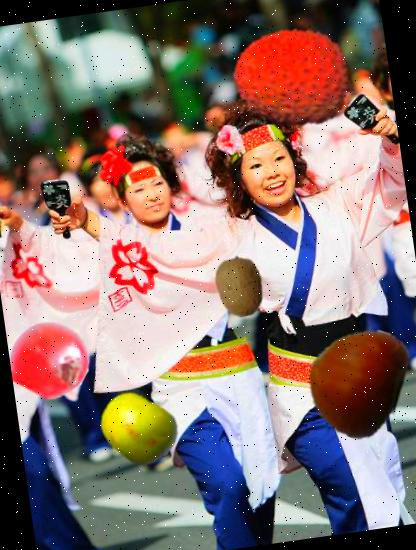Kiwi: (206, 252, 276, 321)
Lychee: (226, 4, 368, 146)
Nut: (293, 318, 416, 443)
Pomelo: (93, 383, 184, 474)
Redcurrant: (6, 316, 94, 404)
